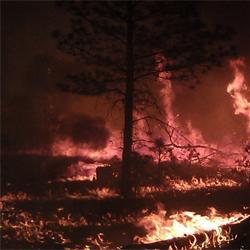fire: (148, 211, 226, 239), (228, 79, 250, 116)
